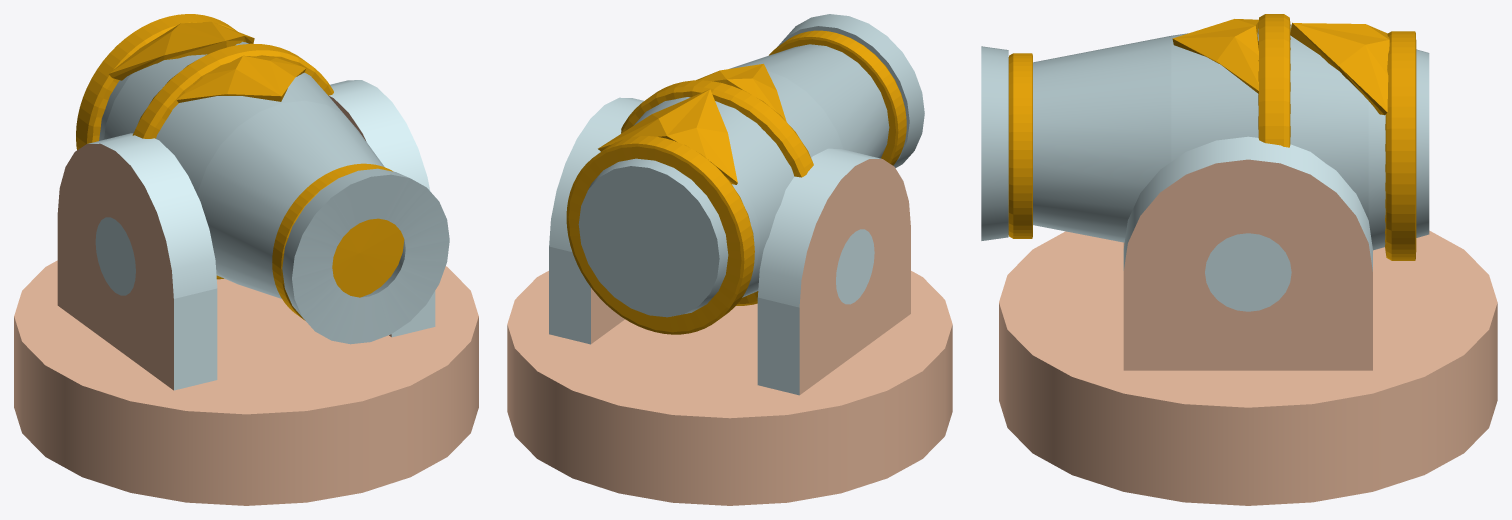
File: upgrade_cannon.fbx
3 views of the same model, side by side, from view 1: azimuth 30°, elevation 25°; view 2: azimuth 150°, elevation 25°; view 3: azimuth 270°, elevation 25° (orthographic). The views are drawn at different scales.
Parts seen in each view (by area): view 1: weapon_cannon, cannon, rims, arrows; view 2: weapon_cannon, cannon, rims, arrows; view 3: weapon_cannon, cannon, rims, arrows.
Part boxes in pixels (bbox=[...]): weapon_cannon: bbox=[14, 80, 478, 505]; cannon: bbox=[99, 41, 449, 344]; rims: bbox=[76, 14, 404, 320]; arrows: bbox=[109, 21, 305, 102]; weapon_cannon: bbox=[507, 97, 952, 505]; cannon: bbox=[578, 14, 924, 317]; rims: bbox=[566, 30, 906, 334]; arrows: bbox=[598, 63, 786, 184]; weapon_cannon: bbox=[999, 136, 1497, 505]; cannon: bbox=[981, 24, 1429, 250]; rims: bbox=[1008, 14, 1416, 260]; arrows: bbox=[1172, 19, 1389, 115].
Bounding box in the file's own units: 45.98 × 38.43 × 47.61.
